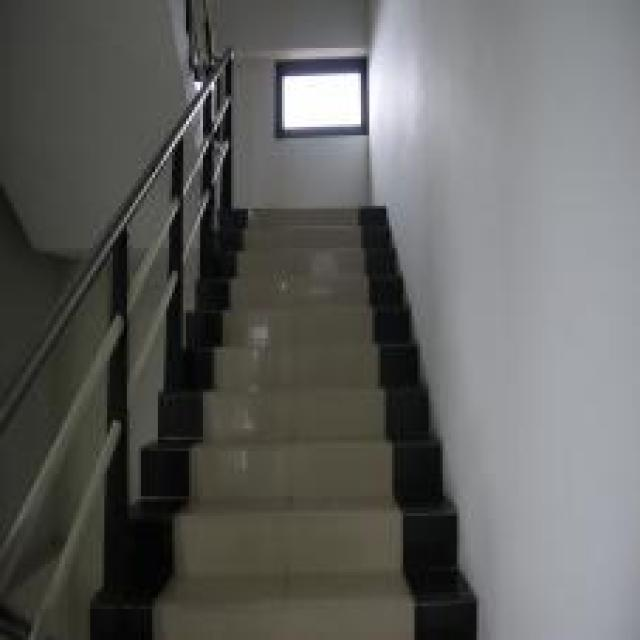upstair: (206, 265, 412, 603)
